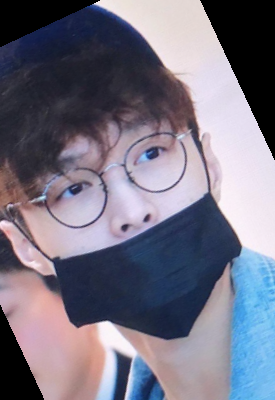mask_weared_incorrect: (1, 8, 249, 340)
